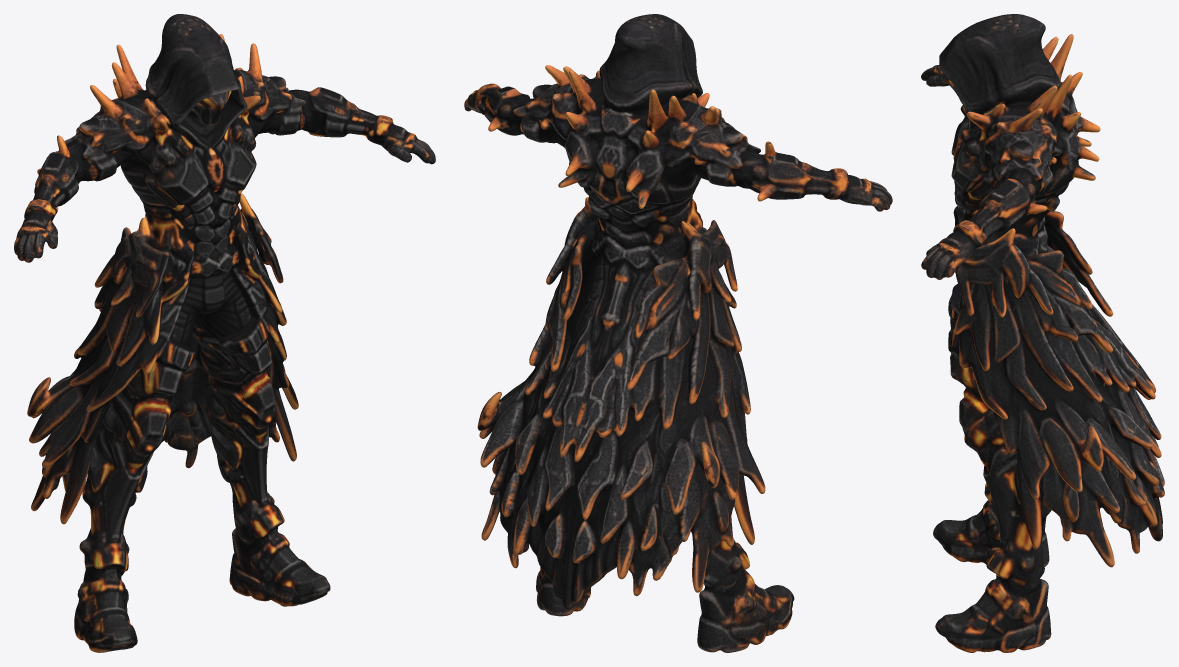
The model's file is orion_n4.glb.
3 renders of one model, left to right at view 1: azimuth 30°, elevation 25°; view 2: azimuth 150°, elevation 25°; view 3: azimuth 270°, elevation 25°, orthographic. The views are drawn at different scales.
Bounding box in the file's own units: 1.39 × 1.9 × 0.7132.
1 material, 1 textured.
